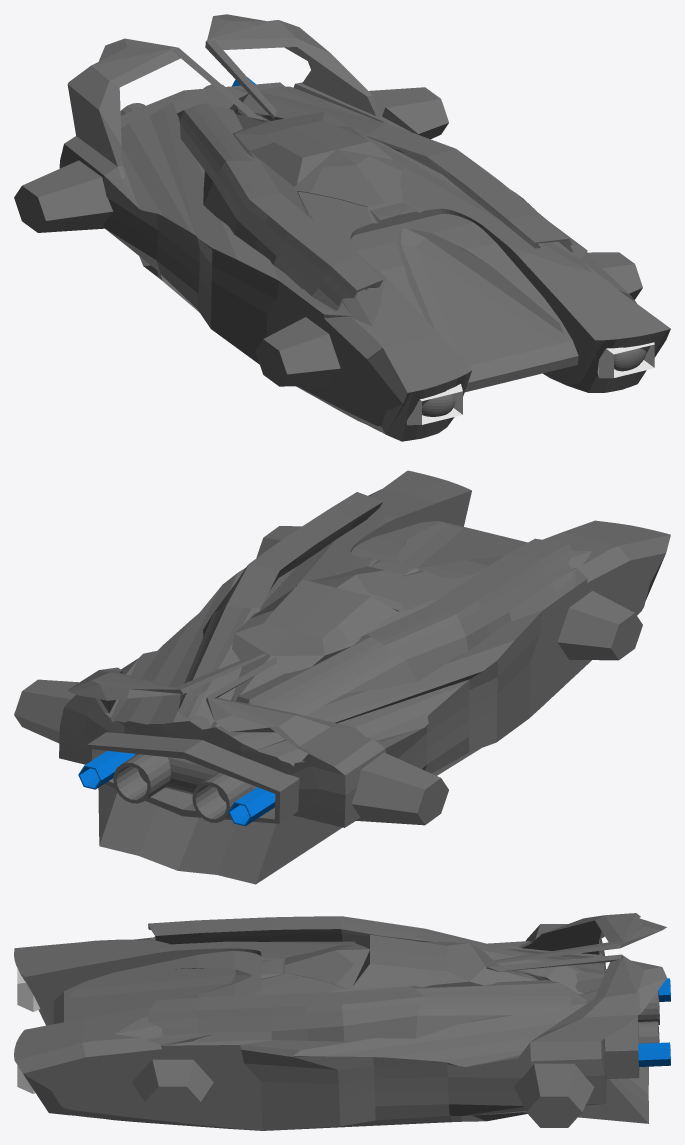
Rendered from Voxtek - Remake v3.fbx.
3 views of the same model, one above another, from view 1: azimuth 30°, elevation 25°; view 2: azimuth 150°, elevation 25°; view 3: azimuth 270°, elevation 25° (orthographic). The views are drawn at different scales.
Parts seen in each view (by area): view 1: Cone.001, Torus.002; view 2: Cone.001, Cone.002; view 3: Cone.001, Cone.002, Torus.002.
Boxes of the visible parts, x1,y1,x2,y2 form: Cone.001: (14,14,670,441); Torus.002: (407,342,654,425); Cone.001: (14,470,670,884); Cone.002: (78,751,275,826); Cone.001: (14,913,666,1130); Cone.002: (638,978,670,1066); Torus.002: (17,968,40,1093).
Size of the model in its own units: 655 by 261 by 1055.
